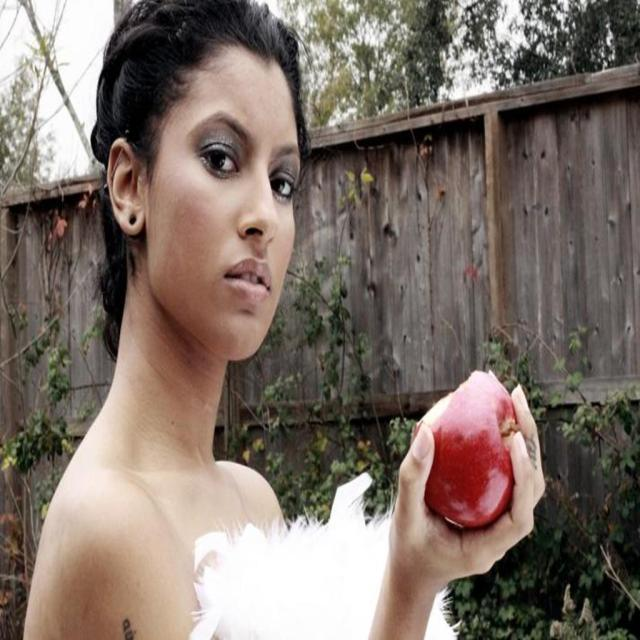Healty Apple: (388, 390, 534, 562)
